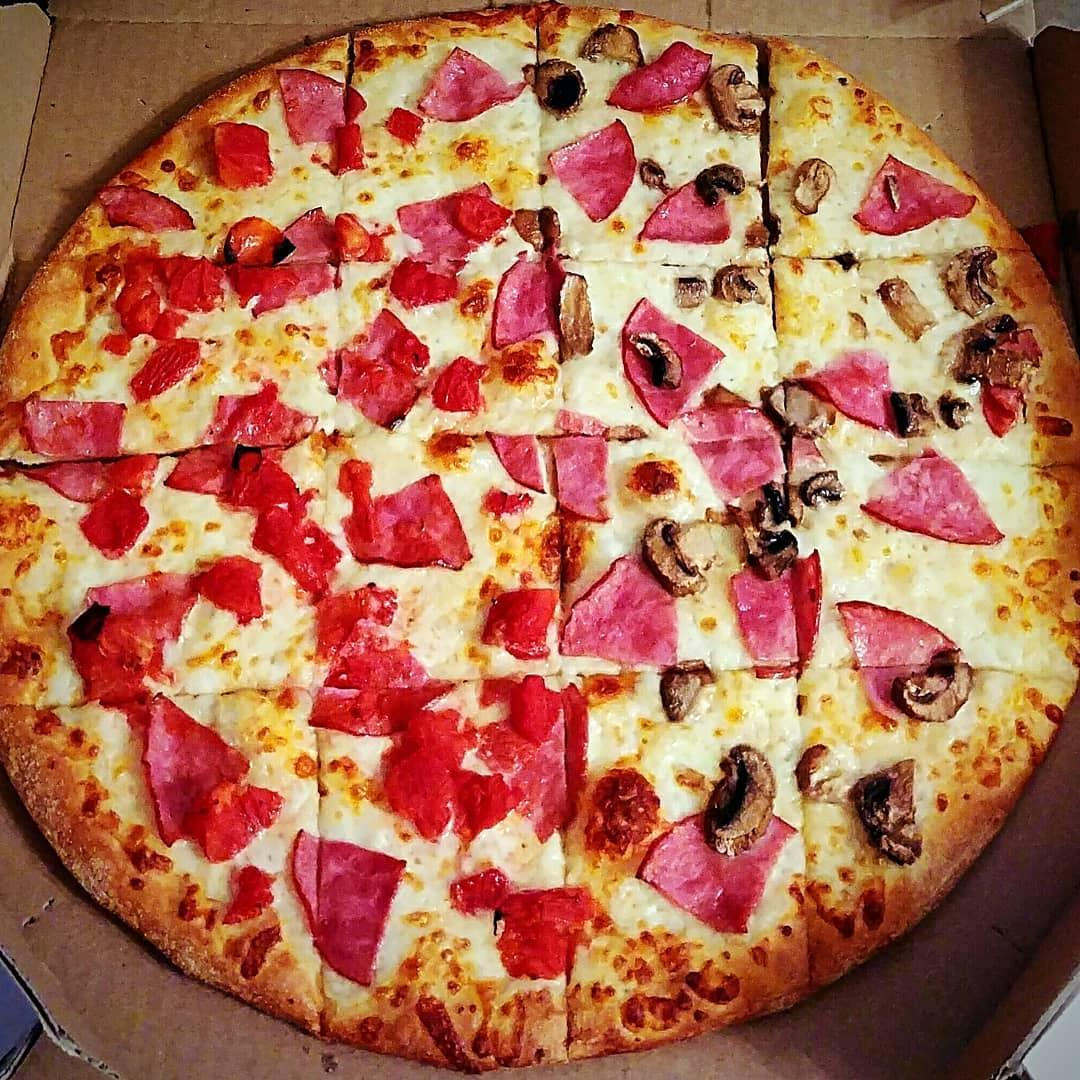Ham: (473, 681, 604, 836), (641, 809, 780, 940), (55, 569, 200, 690), (147, 701, 273, 838), (847, 437, 996, 550), (297, 831, 398, 995), (555, 545, 685, 668), (305, 583, 420, 720), (29, 399, 149, 530), (113, 255, 226, 376), (353, 463, 472, 570), (837, 597, 970, 690), (313, 325, 433, 414), (503, 425, 617, 518), (481, 237, 574, 350), (245, 209, 354, 302), (847, 155, 972, 232), (617, 305, 713, 404), (735, 553, 814, 672), (677, 398, 765, 501), (549, 117, 634, 222), (597, 41, 712, 105), (279, 69, 361, 145), (647, 179, 736, 246), (429, 51, 509, 121), (815, 349, 892, 417), (101, 183, 194, 232)
Mushroom: (845, 755, 957, 874), (941, 237, 1021, 384), (689, 735, 781, 852), (709, 477, 800, 569), (641, 517, 717, 598), (625, 323, 693, 413), (897, 649, 974, 718), (769, 381, 838, 438), (523, 55, 588, 106), (713, 73, 770, 127), (663, 657, 709, 713), (791, 155, 834, 214), (581, 25, 645, 63), (709, 269, 768, 301), (675, 267, 709, 321), (697, 161, 744, 197), (801, 473, 844, 508), (897, 391, 937, 426), (947, 399, 969, 428)
Pizza: (5, 11, 1077, 1067)
Tomatoes: (219, 427, 337, 573), (485, 879, 608, 967), (373, 733, 466, 844), (223, 209, 290, 266), (449, 185, 513, 236), (335, 209, 382, 268), (329, 117, 372, 180), (385, 103, 428, 143)
